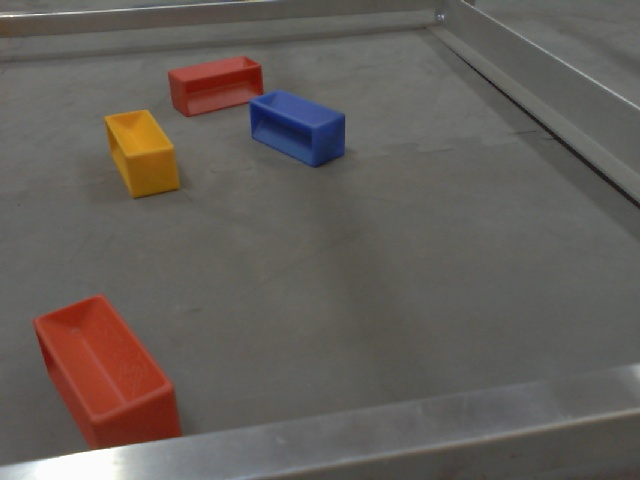BlueSample: (248, 85, 349, 171)
RedSample: (29, 289, 185, 453), (165, 55, 266, 119)
YellowSample: (102, 106, 185, 203)
